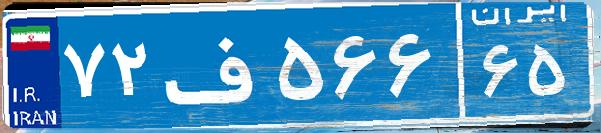2: (110, 28, 158, 105)
5: (273, 28, 330, 110), (525, 38, 570, 115)
6: (385, 28, 445, 110), (330, 28, 385, 110), (475, 38, 525, 113)
7: (57, 26, 110, 107)
ف: (158, 15, 273, 115)
